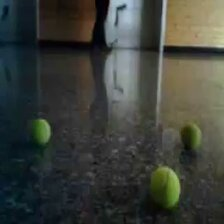tennis: (150, 166, 181, 211), (28, 118, 52, 146), (180, 125, 203, 151)
